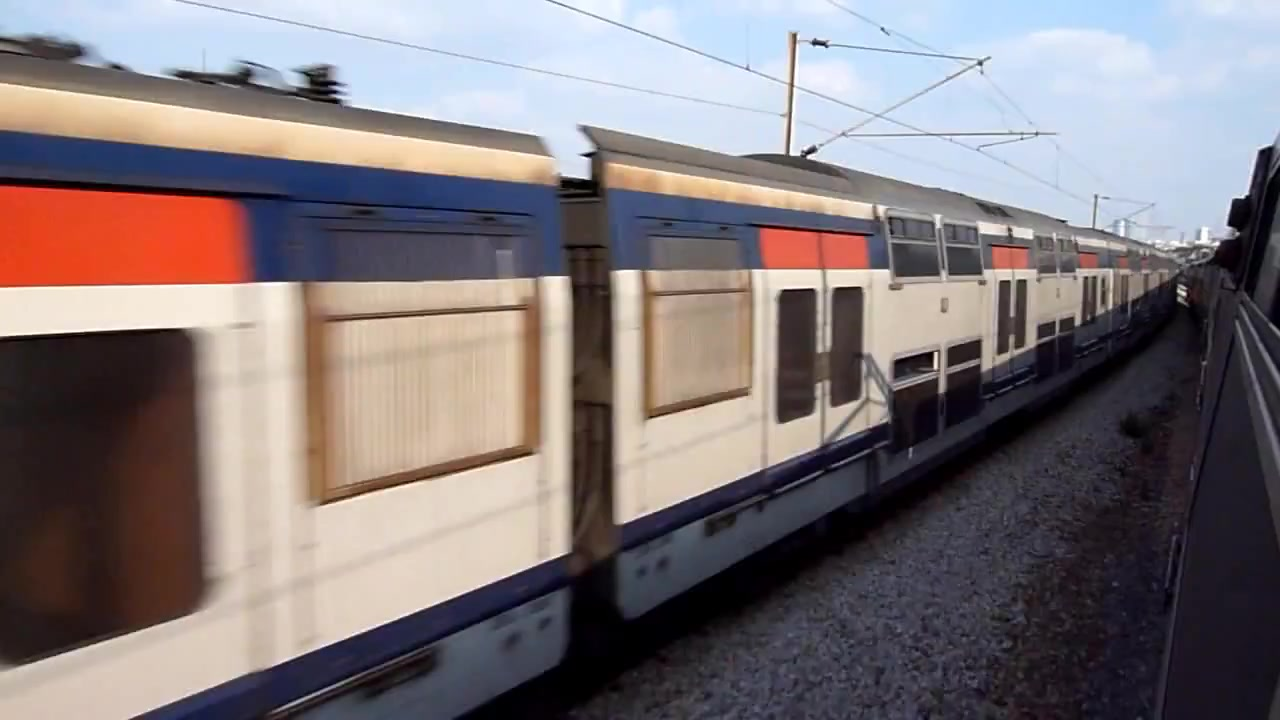train: (1, 25, 1185, 720)
